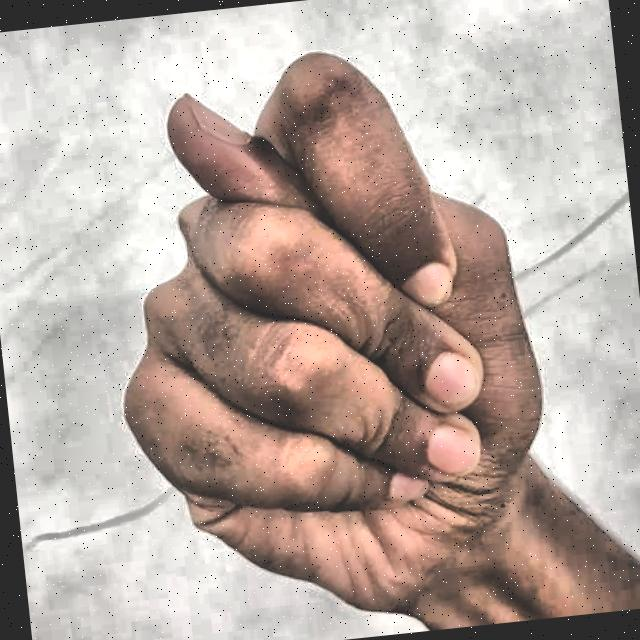Ta: (61, 2, 629, 640)
